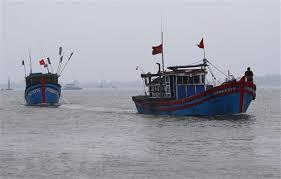Ship: (134, 60, 257, 116), (26, 47, 75, 106)
